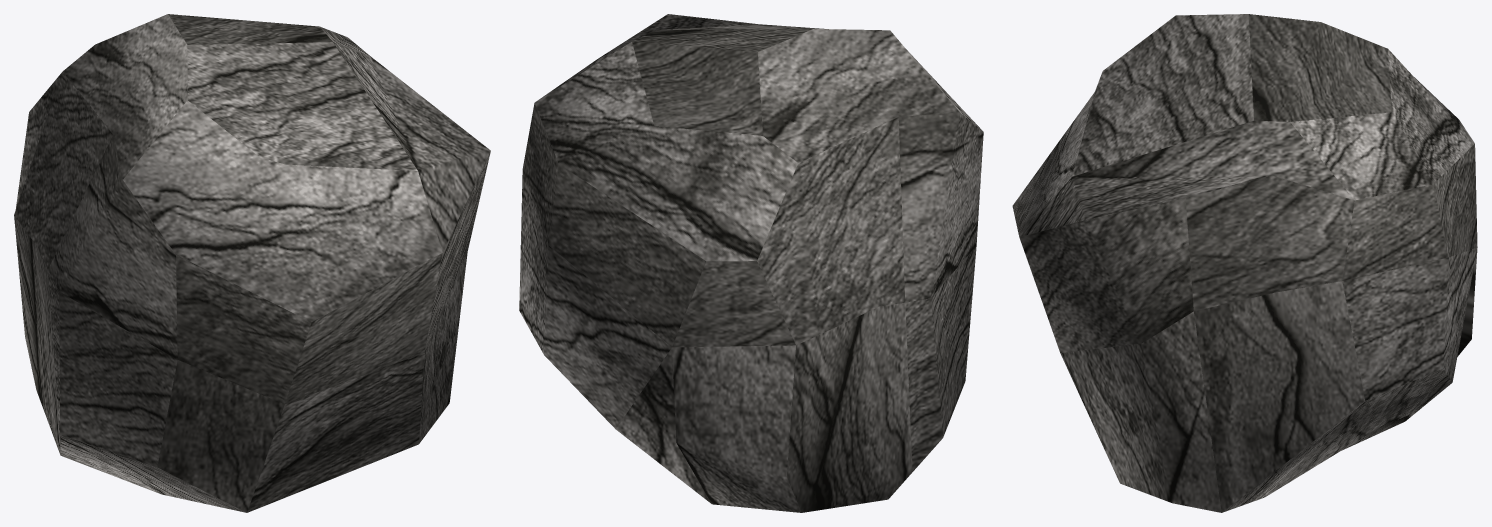
Rendered from rock_2_model.fbx.
The picture shows the model from 3 angles, left to right: view 1: azimuth 30°, elevation 25°; view 2: azimuth 150°, elevation 25°; view 3: azimuth 270°, elevation 25°; orthographic projection. The views are drawn at different scales.
Visible parts, largest first — view 1: StylizedStones_Batch_01_04_LargeStone_0; view 2: StylizedStones_Batch_01_04_LargeStone_0; view 3: StylizedStones_Batch_01_04_LargeStone_0.
Boxes of the visible parts, x1,y1,x2,y2 form: StylizedStones_Batch_01_04_LargeStone_0: (14, 14, 490, 512); StylizedStones_Batch_01_04_LargeStone_0: (519, 14, 983, 512); StylizedStones_Batch_01_04_LargeStone_0: (1012, 14, 1477, 512).
Bounding box in the file's own units: 2.23 × 2.51 × 2.65.
